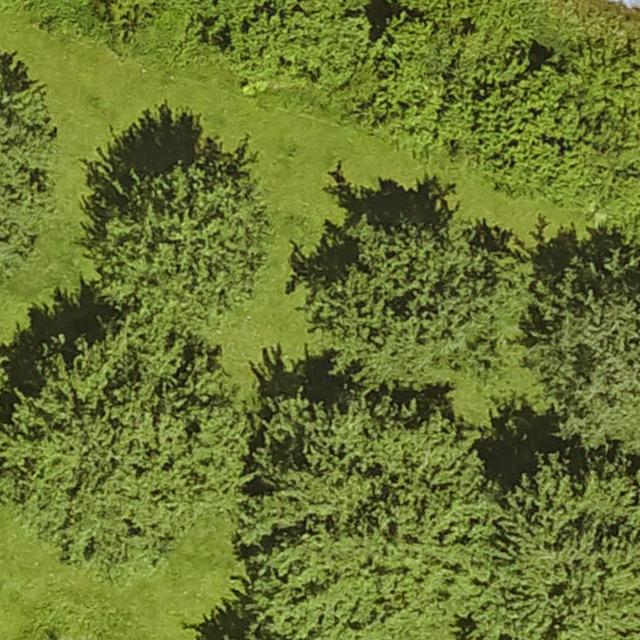tree: (242, 385, 501, 640), (2, 313, 244, 571), (313, 221, 526, 377), (487, 451, 640, 640), (98, 166, 264, 318), (530, 258, 640, 437), (1, 66, 53, 296)
